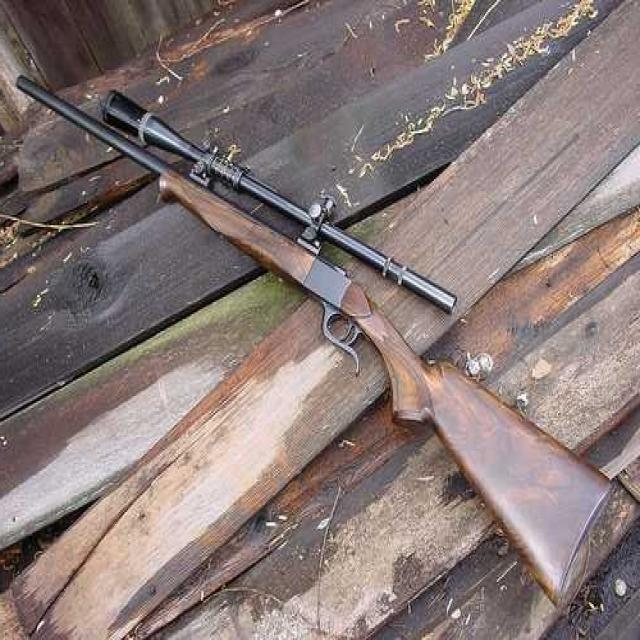heavyweapon: (11, 49, 640, 640)
